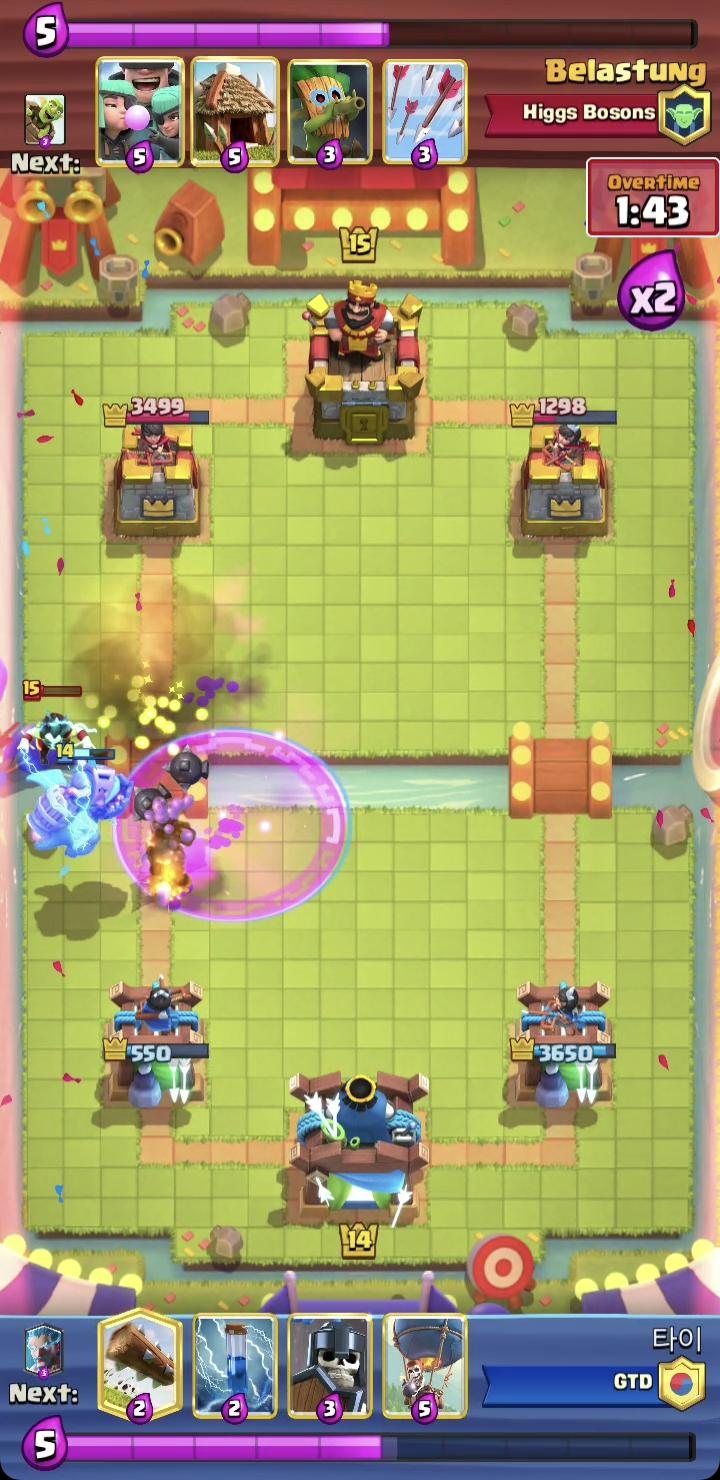ally_infernodragon: (21, 742, 134, 860)
enemy_electro_wizard: (17, 678, 92, 763)
